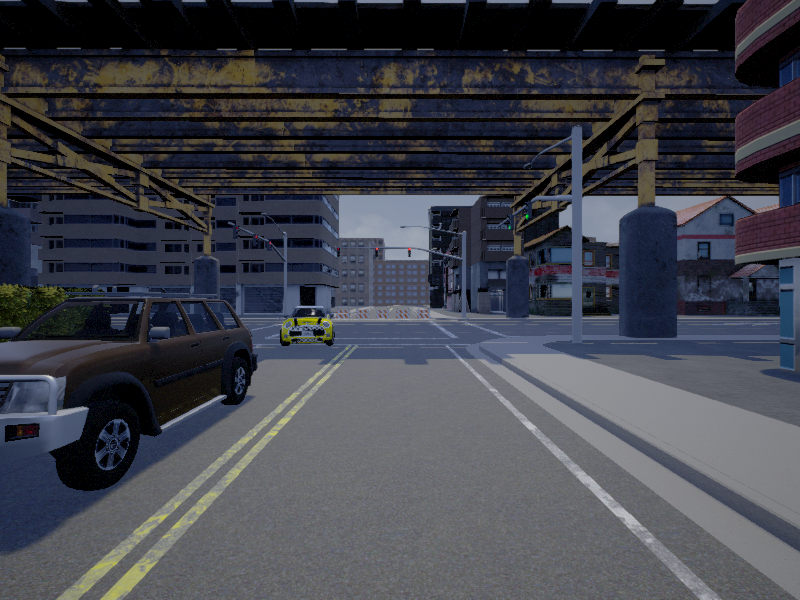Benign: (1, 295, 259, 492), (281, 303, 334, 347)
